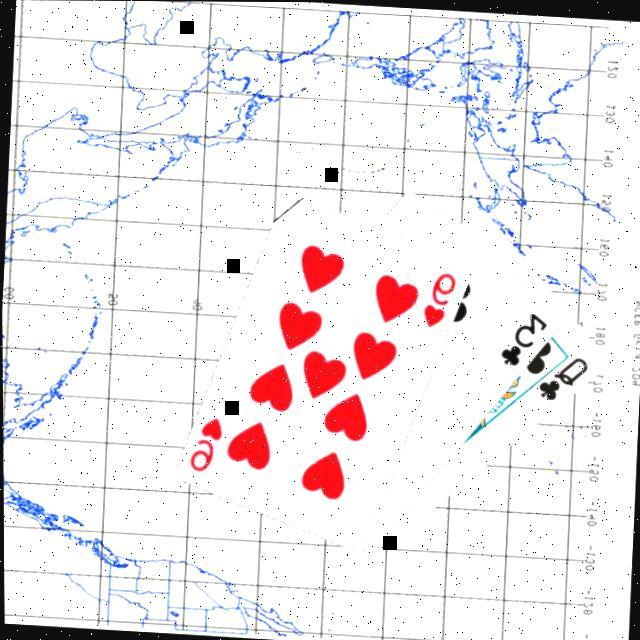3C: (496, 304, 550, 368)
9H: (184, 409, 226, 474), (418, 265, 459, 329)
QC: (532, 348, 591, 404)
